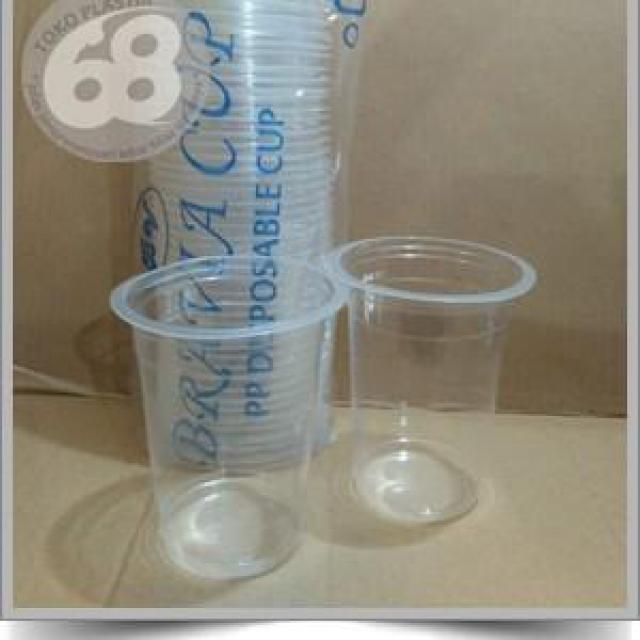plastic cup: (100, 249, 352, 586), (326, 228, 542, 540)
